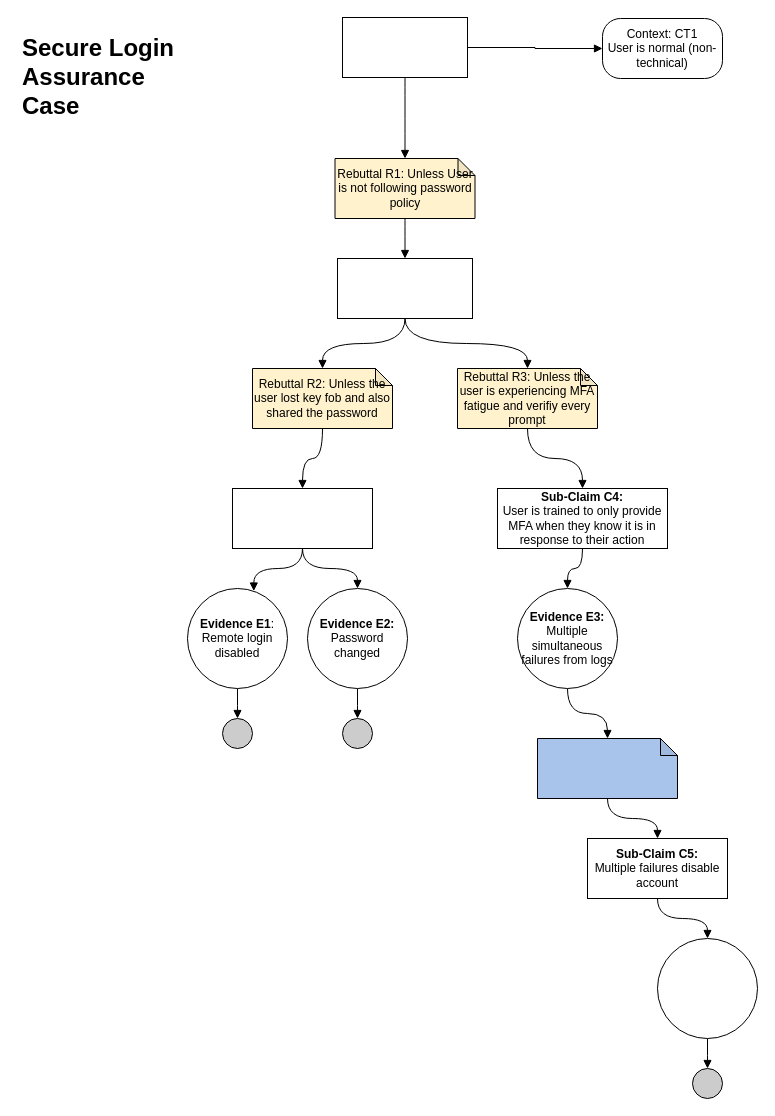
The diagram is 775 pixels wide and 1116 high, and some of its shapes have lost their labels. Each missing label, with the centre of its shape:
Evidence E4: Alerts for locked account: (x=707, y=988)
Sub-Claim C2: MFA prevents password compromise: (x=404, y=288)
Sub-Claim C3: User reported fob loss and compromised password: (x=302, y=518)
Top-Claim C1: Logins are secure and unauthorized logins are prevented: (x=405, y=47)
Undermine UM1: Unless log was only looking for failures: (x=607, y=768)
